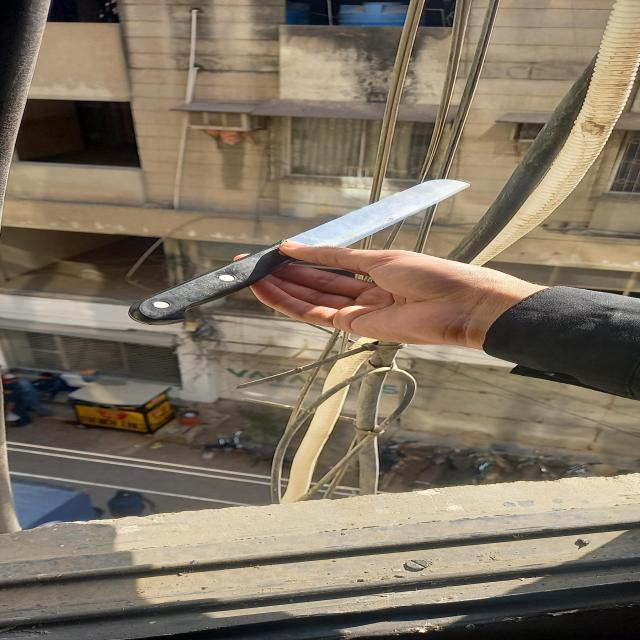faca: (128, 178, 472, 324)
